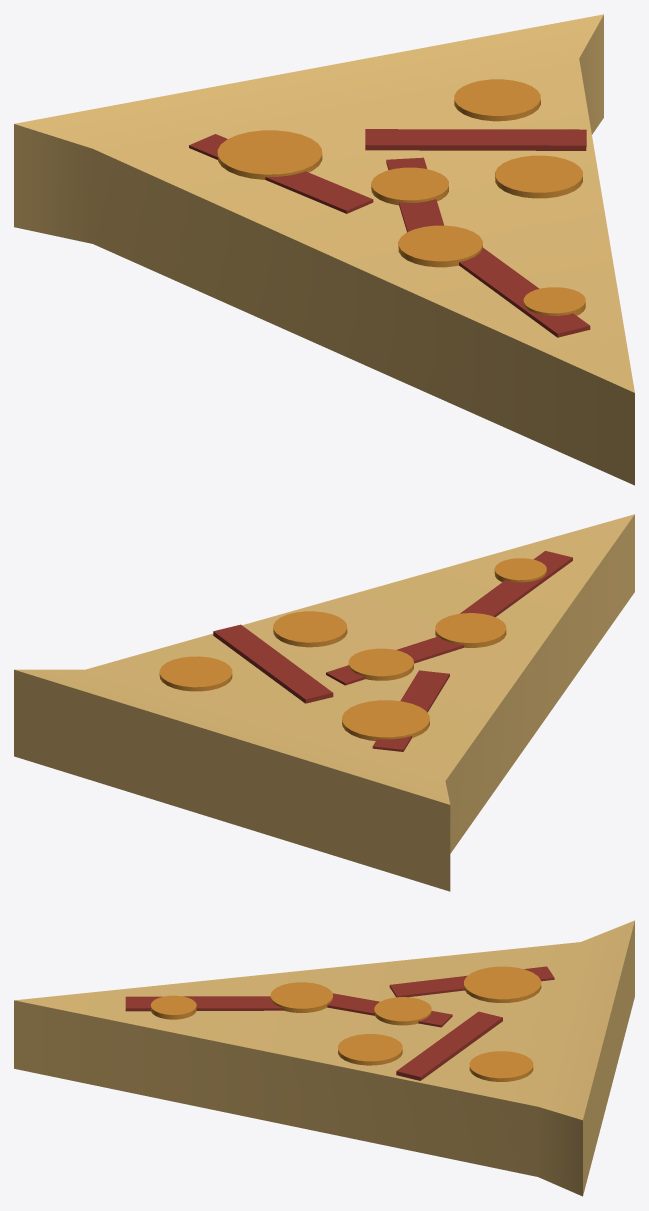
Rendered from 4 pizza.fbx.
3 views of the same model, one above another, from view 1: azimuth 30°, elevation 25°; view 2: azimuth 150°, elevation 25°; view 3: azimuth 270°, elevation 25° (orthographic). The views are drawn at different scales.
Visible parts, largest first — view 1: 4 pizza; view 2: 4 pizza; view 3: 4 pizza.
Part boxes in pixels (left/top/right/bottom): 4 pizza: left=14, top=14, right=634, bottom=485; 4 pizza: left=14, top=514, right=634, bottom=891; 4 pizza: left=14, top=920, right=634, bottom=1196.
Bounding box in the file's own units: 6.06 × 1.08 × 7.96.
